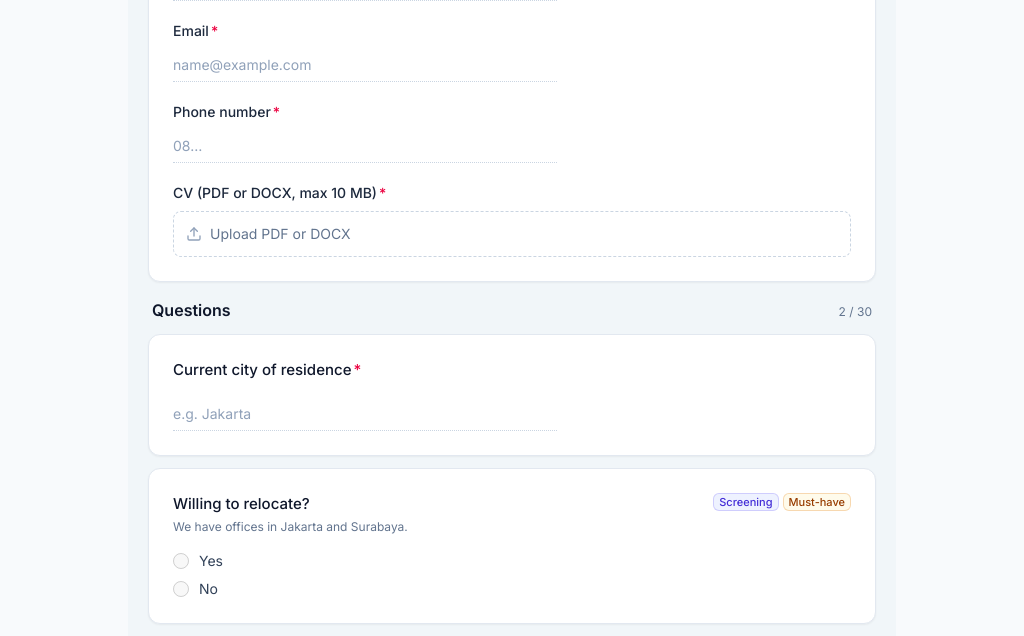
Test case: FormBuilderPage › activates a card on click and deactivates the previous one
The width and height of the screenshot is (1024, 636).
(page scrolled)
Step 1. Click the button named "edit question" → (512, 395), box [149,335,875,454]
(page scrolled)
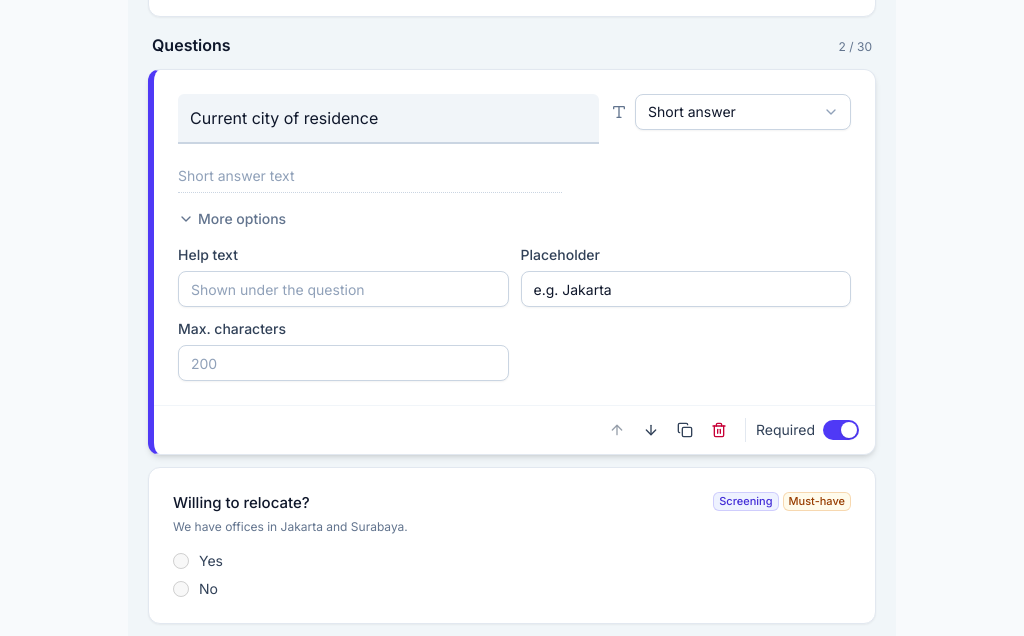
Expected: the field named "Question" holds "Current city of residence", [178,94,599,144]
Step 2. Click the button named "edit question" → (512, 545), box [149,468,875,622]
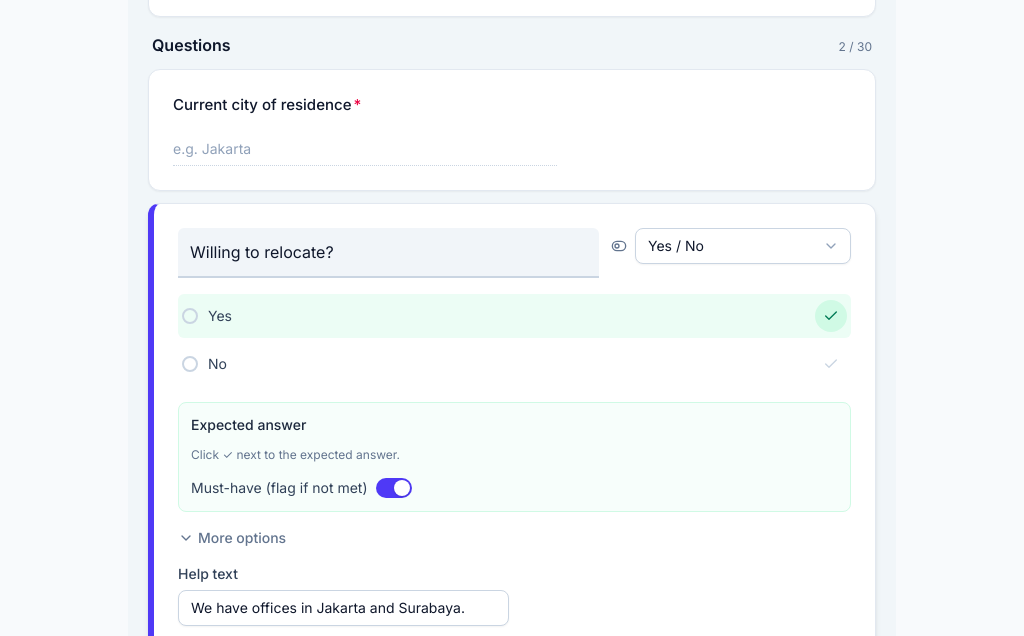
Expected: the field named "Question" holds "Willing to relocate?", [178,228,599,278]
Expected: the number of fields named "Question" is 1, [178,228,599,278]
